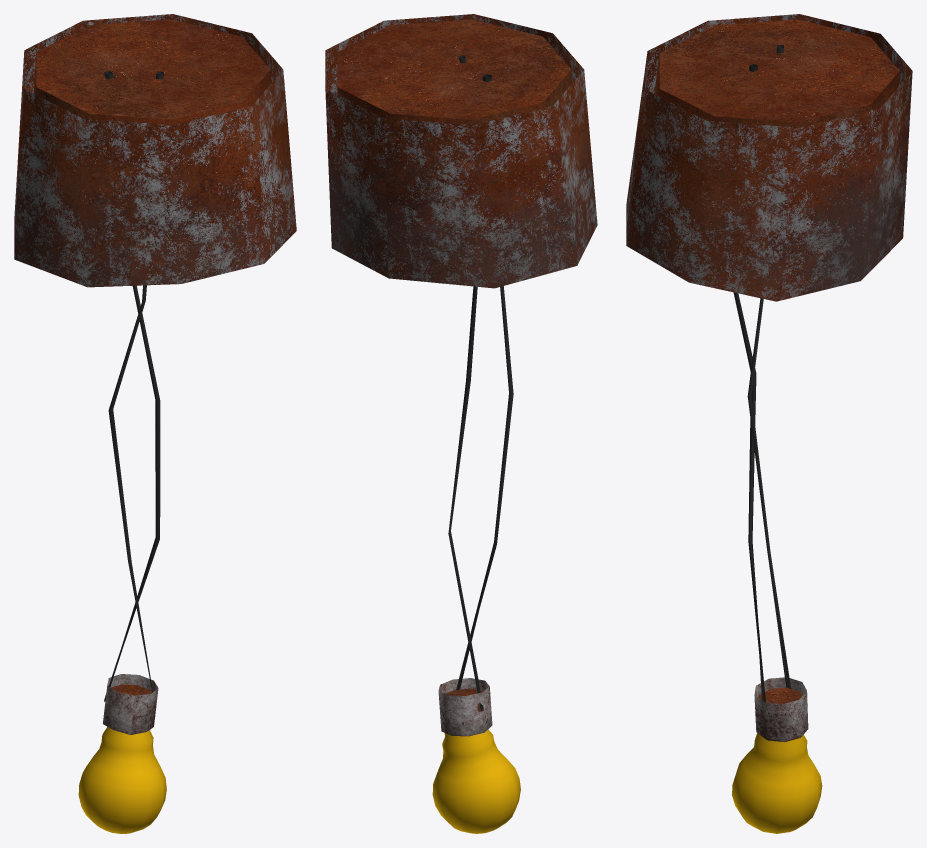
The model's file is incandescent lamp.fbx.
The picture shows the model from 3 angles, left to right: view 1: azimuth 30°, elevation 25°; view 2: azimuth 150°, elevation 25°; view 3: azimuth 270°, elevation 25°; orthographic projection. The views are drawn at different scales.
Parts seen in each view (by area): view 1: incandescent lamp; view 2: incandescent lamp; view 3: incandescent lamp.
Part boxes in pixels (x1=…): incandescent lamp: x1=14, y1=14, x2=296, y2=833; incandescent lamp: x1=325, y1=14, x2=597, y2=833; incandescent lamp: x1=626, y1=14, x2=912, y2=833.
Size of the model in its own units: 0.2161 by 0.6266 by 0.2094.
